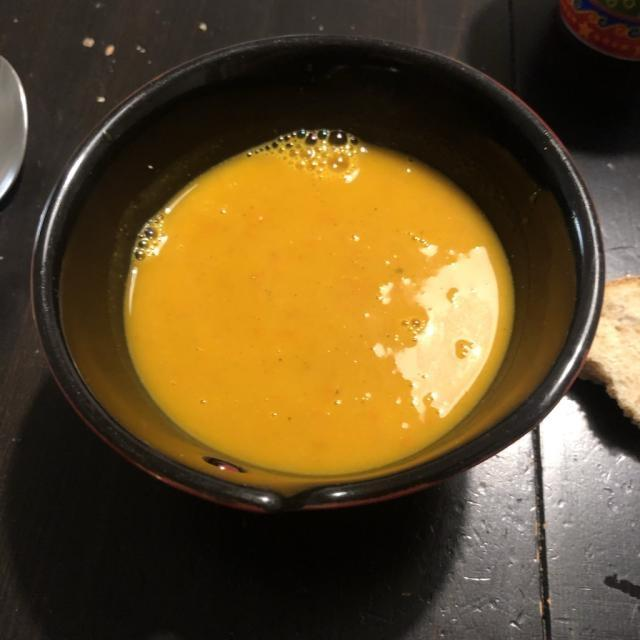soup: (131, 137, 511, 469)
